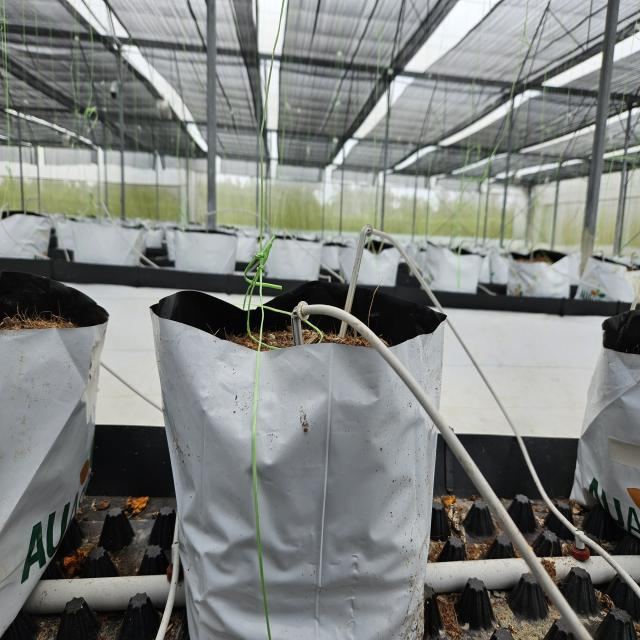Obstacle: (297, 304, 594, 640)
Soilbag: (150, 287, 444, 640)
